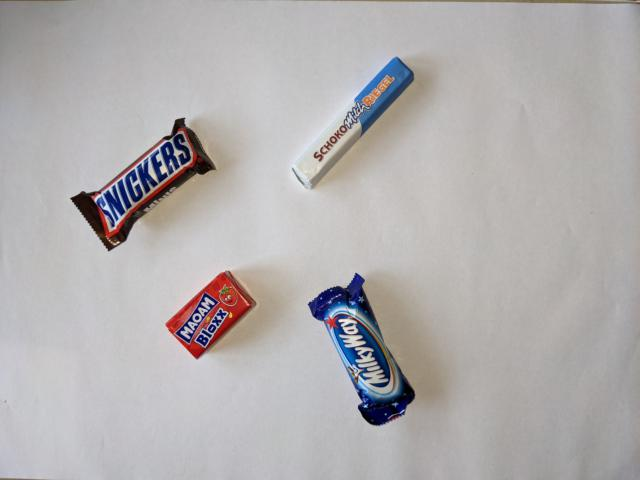MAOAM: (163, 267, 259, 362)
MilkyWay: (305, 270, 418, 427)
Schokoriegel: (285, 55, 417, 193)
Snickers: (67, 115, 220, 254)
